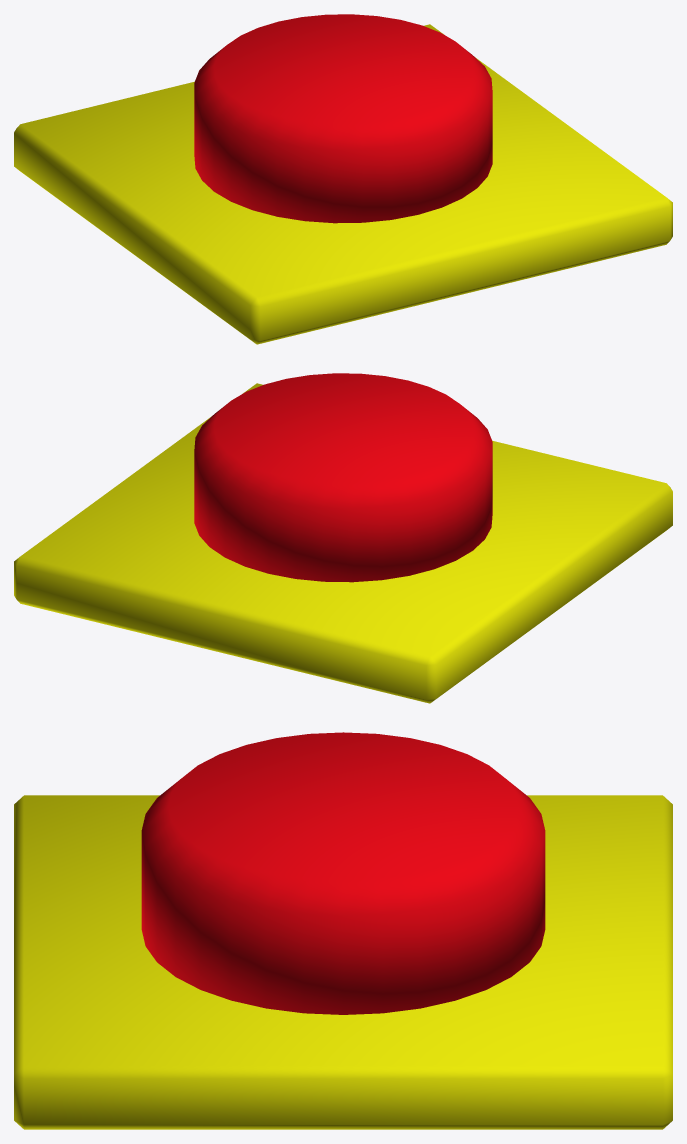
The model's file is button_animation.glb.
The picture shows the model from 3 angles, top to bottom: view 1: azimuth 30°, elevation 25°; view 2: azimuth 150°, elevation 25°; view 3: azimuth 270°, elevation 25°; orthographic projection. The views are drawn at different scales.
Visible parts, largest first — view 1: base, button; view 2: base, button; view 3: base, button.
Boxes of the visible parts, x1=… form: base: x1=14, y1=24, x2=672, y2=344; button: x1=194, y1=14, x2=492, y2=223; base: x1=14, y1=383, x2=672, y2=703; button: x1=194, y1=373, x2=492, y2=582; base: x1=14, y1=795, x2=672, y2=1129; button: x1=141, y1=732, x2=545, y2=1014.
Bounding box in the file's own units: 0.5186 × 0.1633 × 0.5186.
